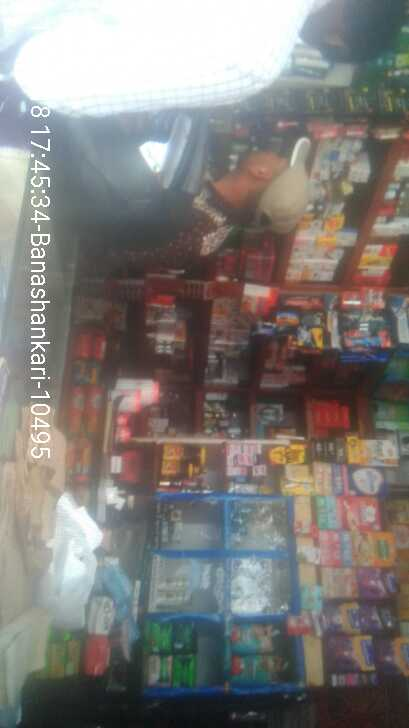beauty: (151, 588, 194, 606), (154, 576, 191, 593), (151, 532, 182, 546), (155, 509, 183, 523), (154, 521, 185, 533)
pharmacy: (230, 622, 290, 658), (228, 657, 290, 687), (147, 618, 175, 656), (172, 619, 196, 657), (170, 653, 196, 687), (145, 654, 169, 689)
